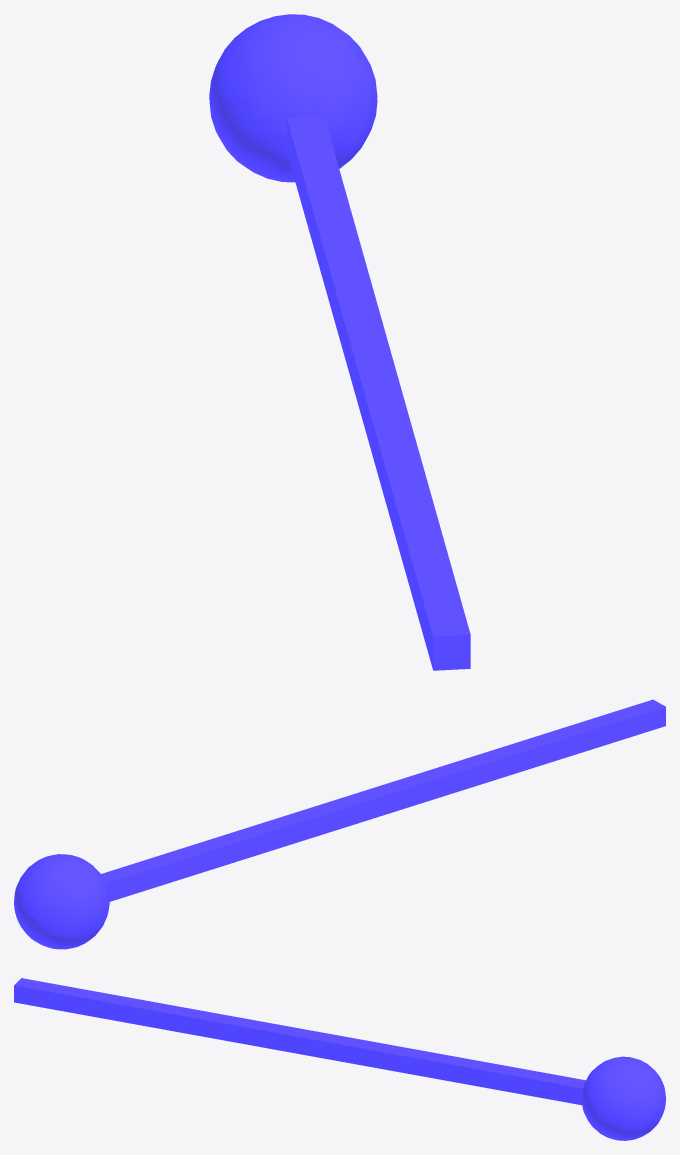
Rendered from NewWebMenuNewsListner.gltf.
3 renders of one model, top to bottom at view 1: azimuth 30°, elevation 25°; view 2: azimuth 150°, elevation 25°; view 3: azimuth 270°, elevation 25°, orthographic. The views are drawn at different scales.
Parts seen in each view (by area): view 1: ListnerModuli.003; view 2: ListnerModuli.003; view 3: ListnerModuli.003.
Part boxes in pixels (x1,y1,x2,y2): ListnerModuli.003: (209, 14, 470, 670); ListnerModuli.003: (14, 699, 665, 949); ListnerModuli.003: (14, 978, 665, 1140).
Bounding box in the file's own units: 0.1543 × 0.0421 × 0.3252.
